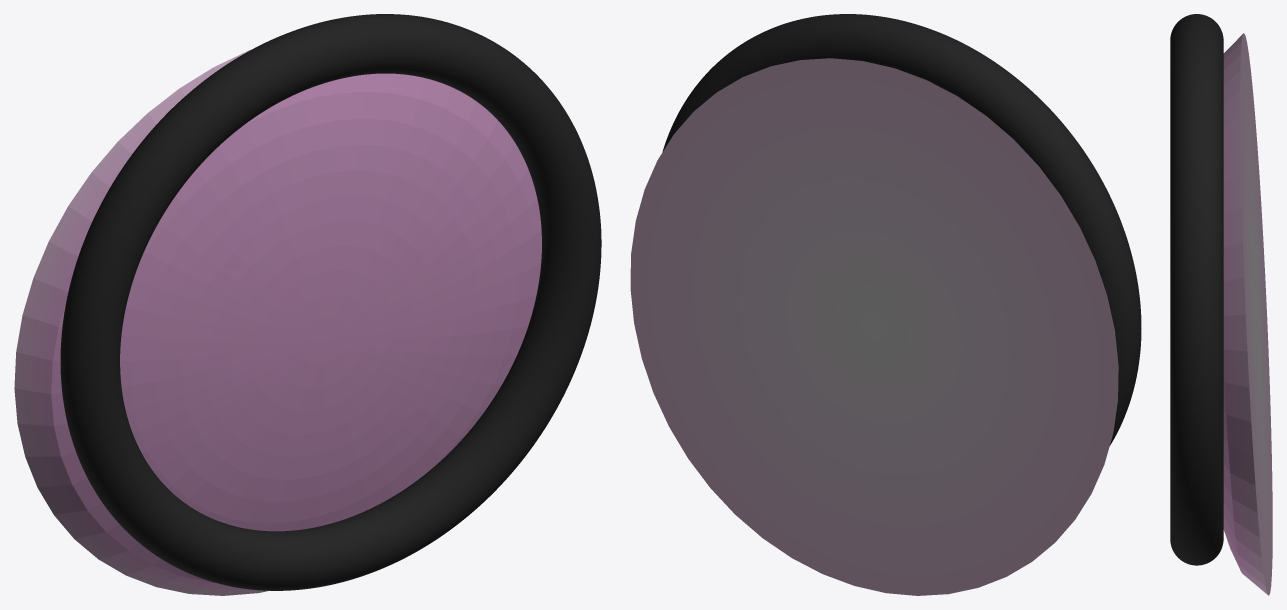
File: FINAL012_with_Ring_m.glb
3 views of the same model, side by side, from view 1: azimuth 30°, elevation 25°; view 2: azimuth 150°, elevation 25°; view 3: azimuth 270°, elevation 25° (orthographic). The views are drawn at different scales.
Parts seen in each view (by area): view 1: Polyp_FINAL012, Ring_CAD; view 2: Polyp_FINAL012, Ring_CAD; view 3: Ring_CAD, Polyp_FINAL012.
Part boxes in pixels (x1,y1,x2,y2): Polyp_FINAL012: [14, 49, 541, 595]; Ring_CAD: [60, 14, 601, 590]; Polyp_FINAL012: [630, 58, 1118, 595]; Ring_CAD: [662, 14, 1141, 445]; Ring_CAD: [1170, 14, 1223, 565]; Polyp_FINAL012: [1223, 33, 1272, 595].
Bounding box in the file's own units: 0.0127 × 0.0132 × 0.00231.
